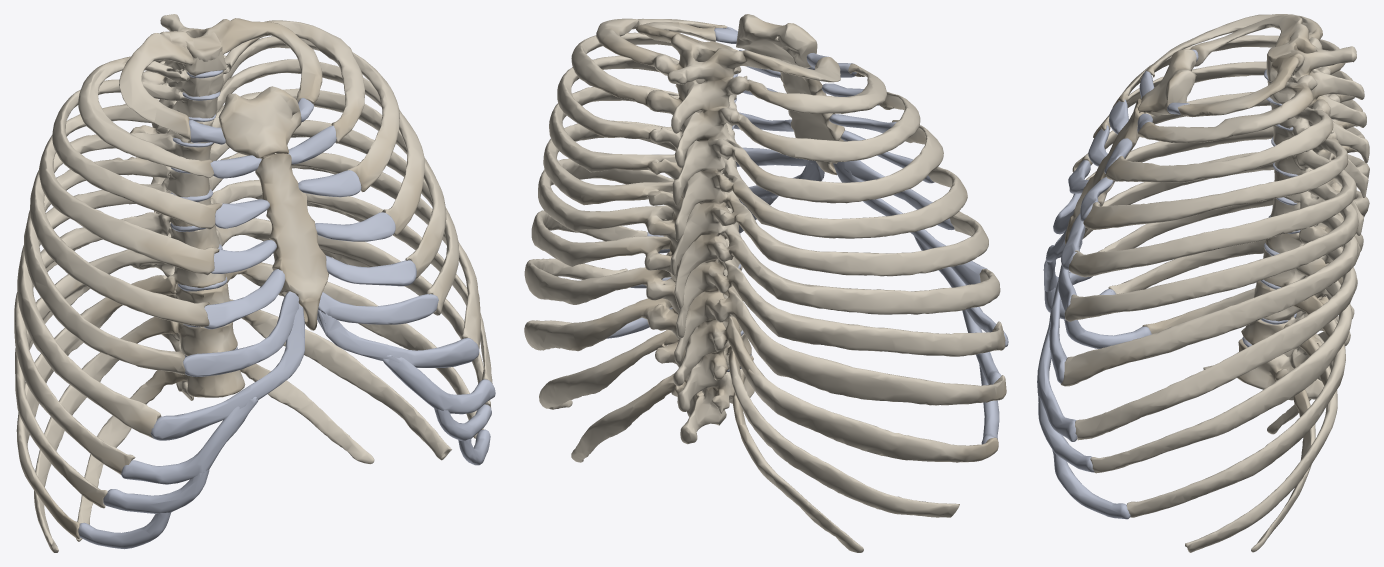
Rendered from ribs.glb.
3 renders of one model, left to right at view 1: azimuth 30°, elevation 25°; view 2: azimuth 150°, elevation 25°; view 3: azimuth 270°, elevation 25°, orthographic. The views are drawn at different scales.
Parts seen in each view (by area): view 1: udambu; view 2: udambu; view 3: udambu.
Part boxes in pixels (<box>): udambu: <box>14,14,495,552</box>; udambu: <box>524,14,1008,552</box>; udambu: <box>1037,14,1369,552</box>.
Bounding box in the file's own units: 0.5603 × 0.6 × 0.3955.
